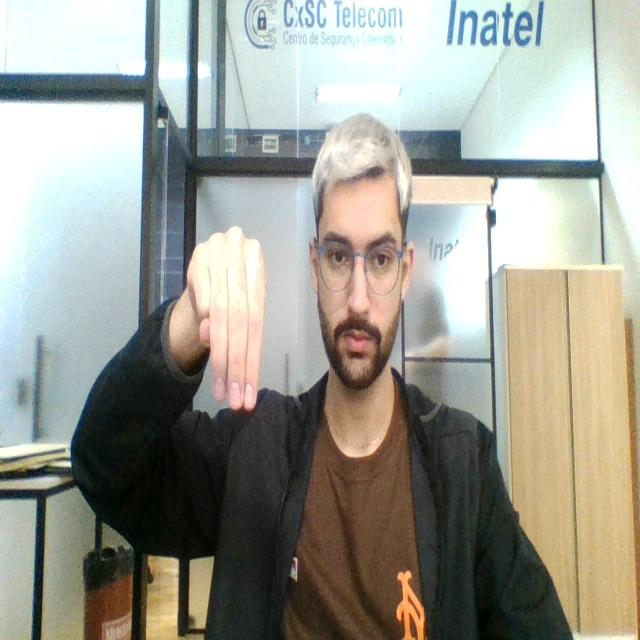M: (180, 218, 265, 418)
